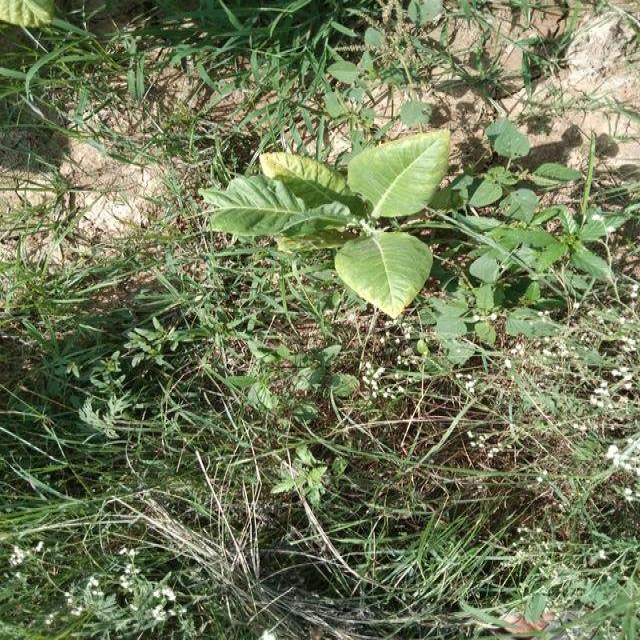crop: (232, 135, 458, 312)
